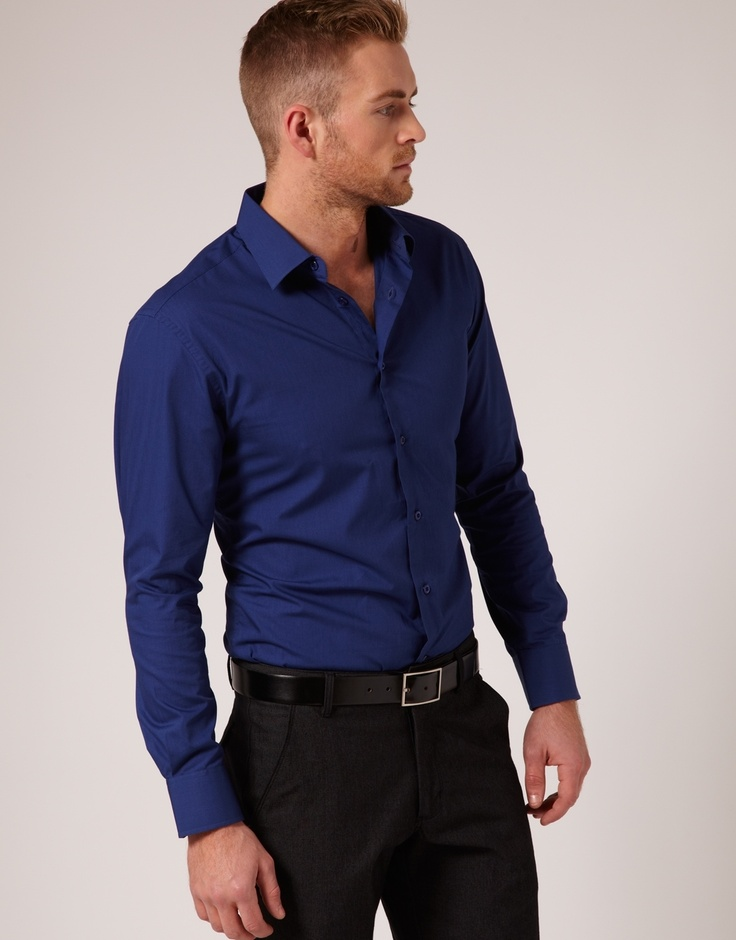F_belt: (216, 643, 508, 711)
F_shirt: (111, 186, 588, 858)
